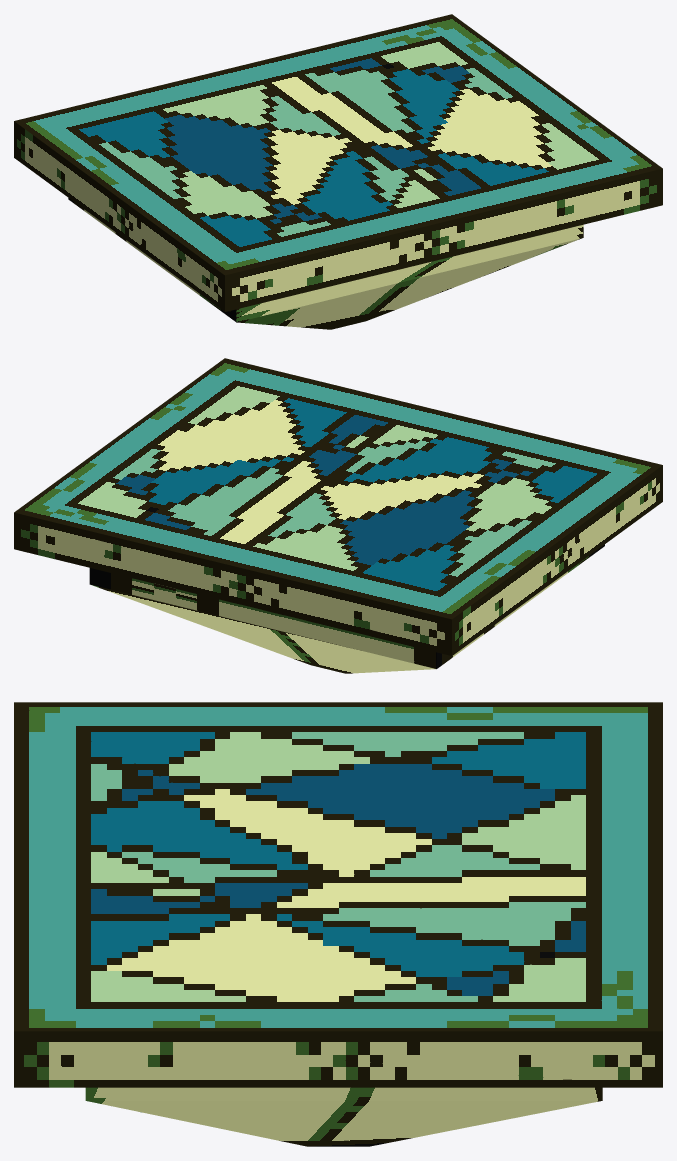
File: bluedestination.glb
3 views of the same model, one above another, from view 1: azimuth 30°, elevation 25°; view 2: azimuth 150°, elevation 25°; view 3: azimuth 270°, elevation 25° (orthographic). The views are drawn at different scales.
Visible parts, largest first — view 1: Cube; view 2: Cube; view 3: Cube.
Part boxes in pixels (box(x1,y1,x2,y2)): Cube: box(14, 14, 662, 329); Cube: box(14, 358, 662, 673); Cube: box(14, 702, 662, 1146).
Size of the model in its own units: 24.97 by 9.44 by 20.82.
Materials: 1 (1 with a texture image).
